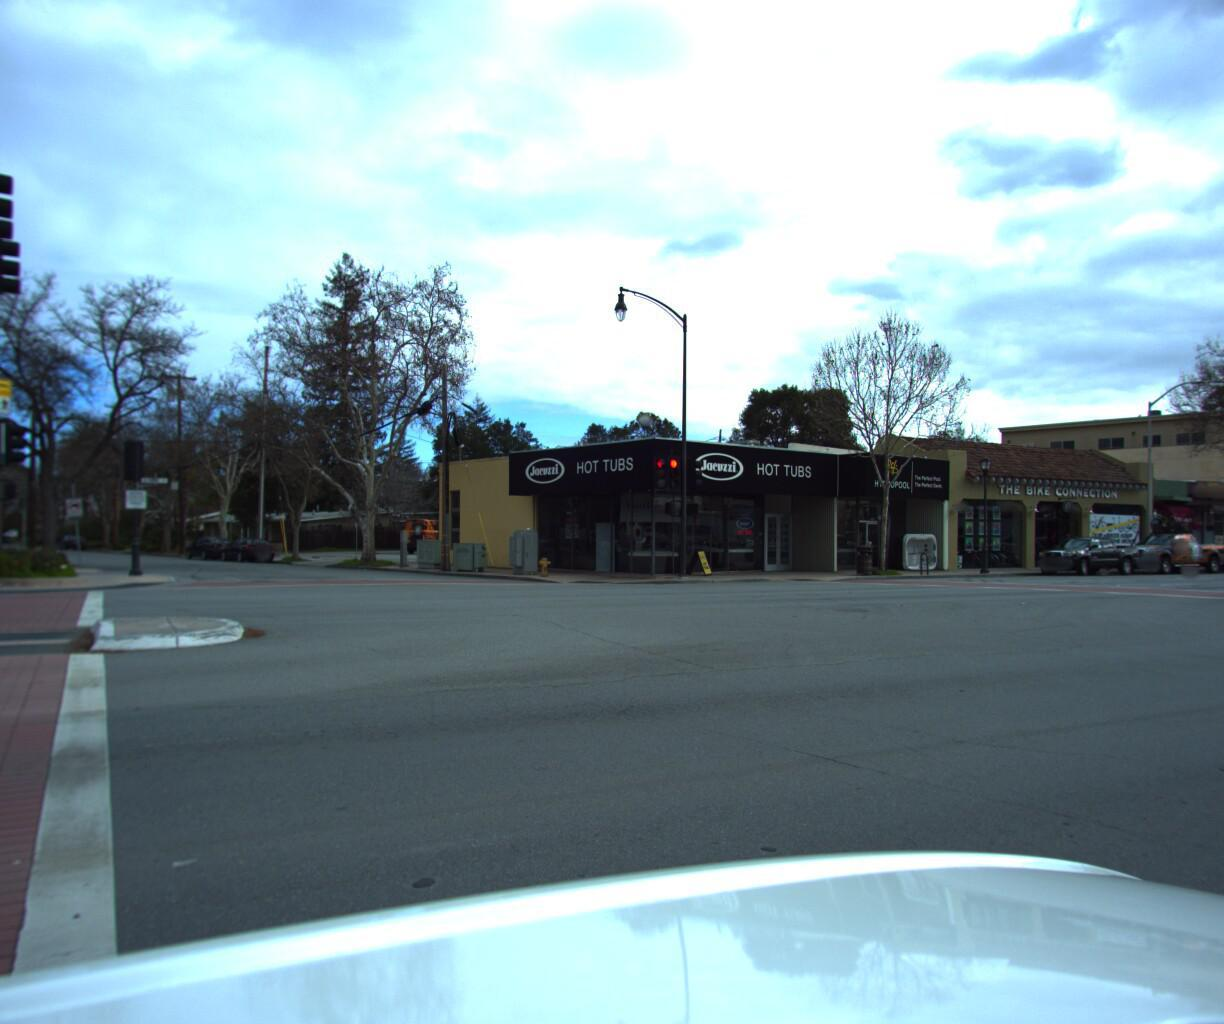car: (1108, 505, 1224, 573), (1026, 531, 1139, 575), (216, 532, 280, 561), (184, 531, 239, 558), (1194, 529, 1224, 567)
